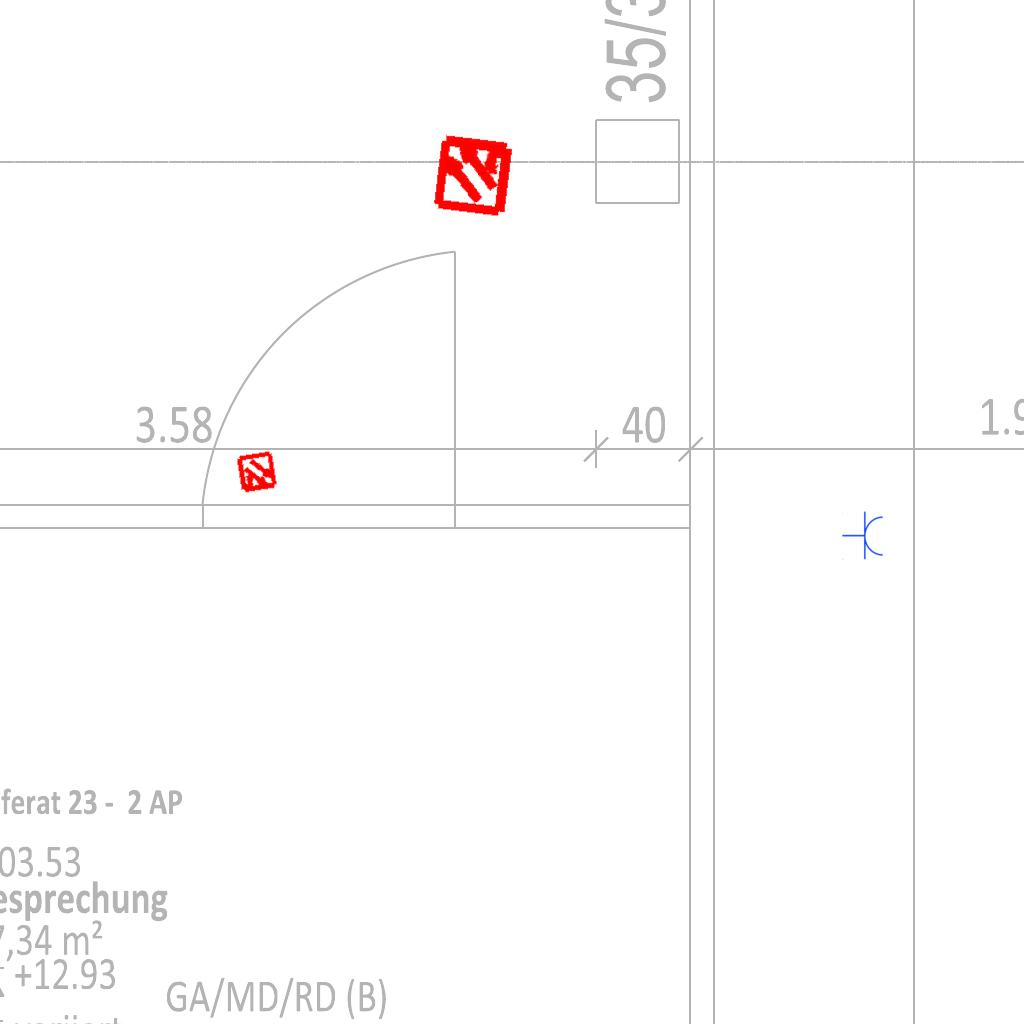OT_Multisensormelder_(Kombination_RMO_WMD): (410, 110, 537, 237), (224, 440, 290, 506)
Schukosteckdose_einfach: (842, 511, 885, 561)
